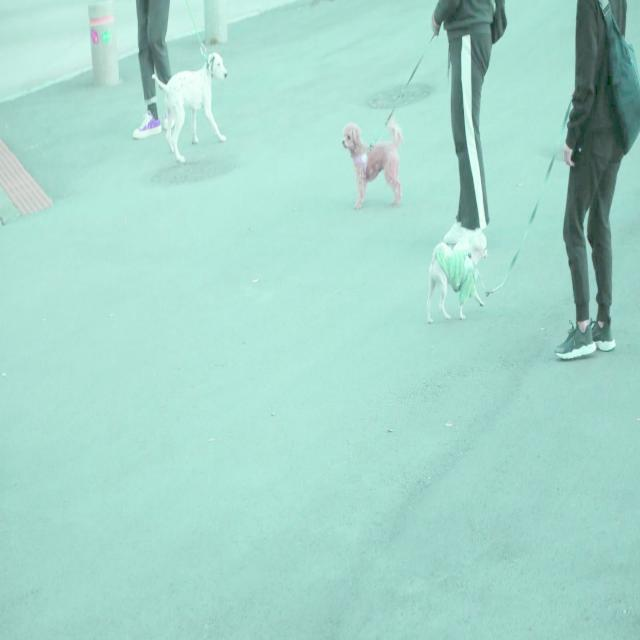Leashed_Dog: (426, 74, 596, 326), (341, 5, 457, 210), (150, 0, 228, 164)
